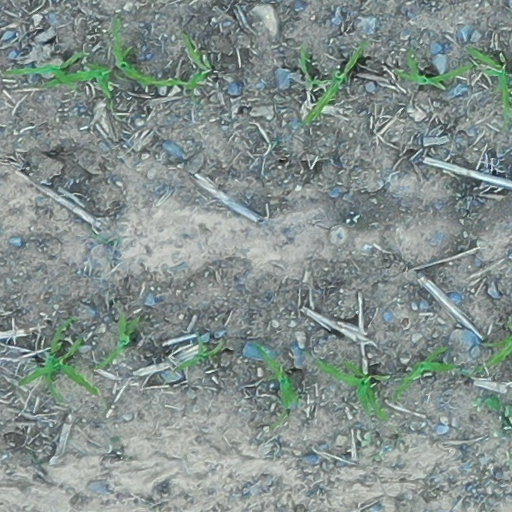planta: (22, 322, 95, 397), (303, 41, 367, 123), (111, 21, 181, 88), (317, 360, 387, 418), (255, 344, 298, 429), (394, 346, 457, 397), (4, 53, 86, 92), (44, 62, 112, 108), (470, 48, 510, 116), (97, 313, 140, 369), (399, 55, 474, 85), (177, 334, 223, 371), (184, 38, 209, 92)
